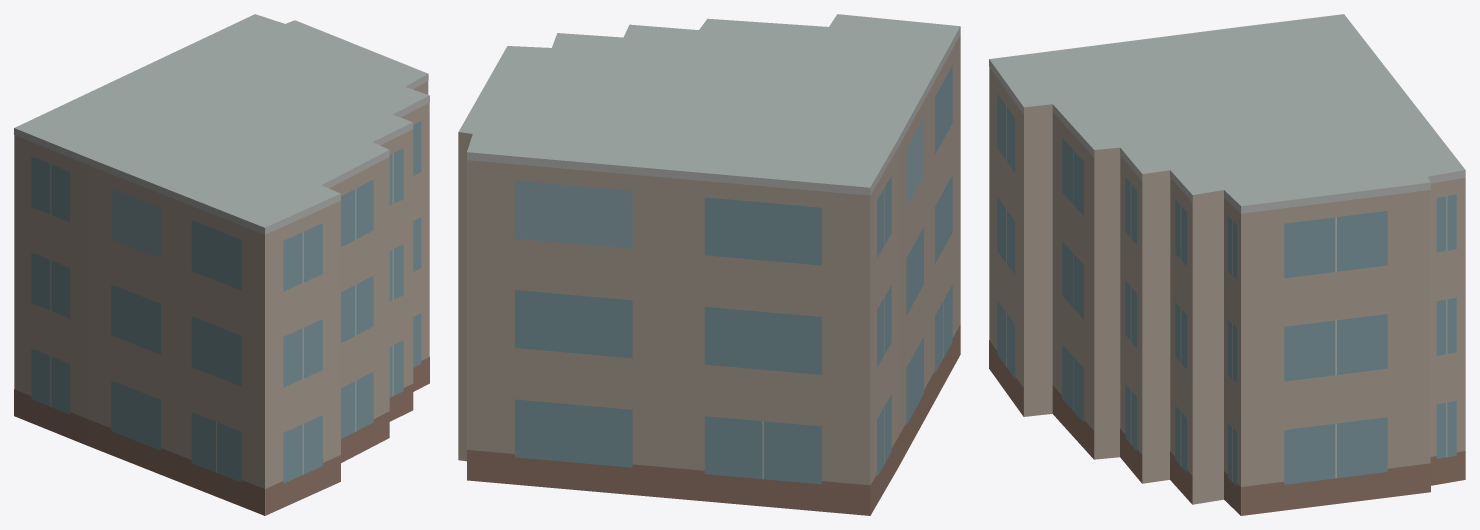
The model's file is survey-upis-32472461.glb.
The picture shows the model from 3 angles, left to right: view 1: azimuth 30°, elevation 25°; view 2: azimuth 150°, elevation 25°; view 3: azimuth 270°, elevation 25°; orthographic projection. The views are drawn at different scales.
Parts seen in each view (by area): view 1: survey-upis-32472461.tmp; view 2: survey-upis-32472461.tmp; view 3: survey-upis-32472461.tmp.
Boxes of the visible parts, bbox=[...] form: survey-upis-32472461.tmp: bbox=[14, 14, 429, 515]; survey-upis-32472461.tmp: bbox=[458, 14, 960, 515]; survey-upis-32472461.tmp: bbox=[989, 14, 1465, 515].
Size of the model in its own units: 13.46 by 10.1 by 14.1.
